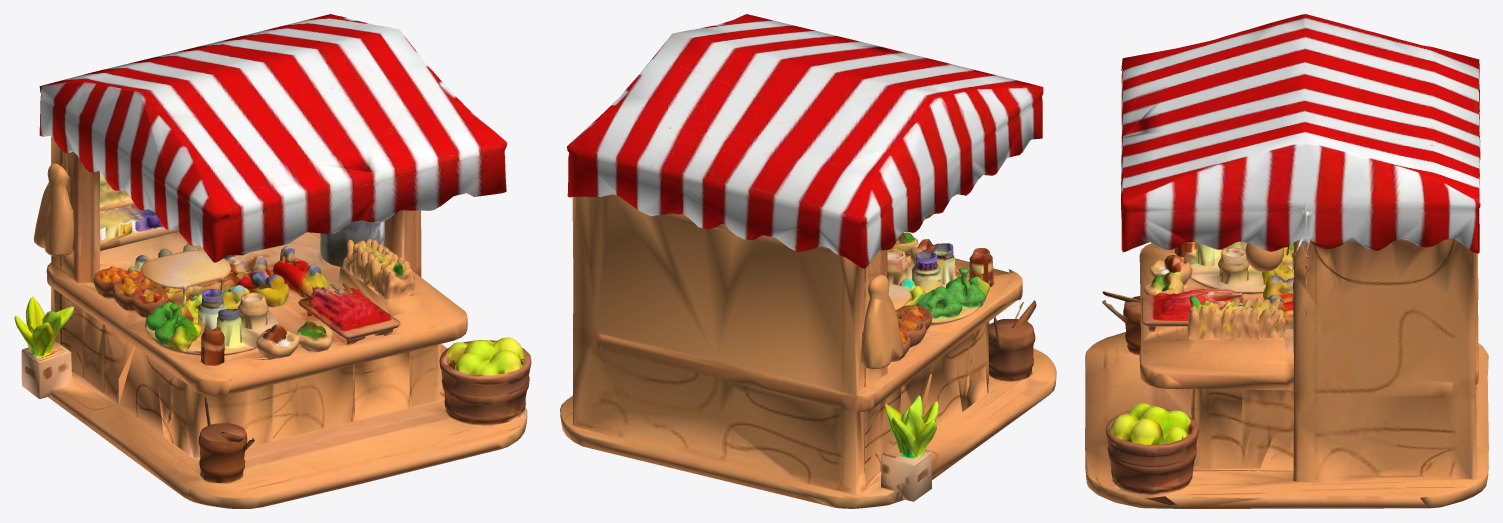
Rendered from prop-stall.glb.
The picture shows the model from 3 angles, left to right: view 1: azimuth 30°, elevation 25°; view 2: azimuth 150°, elevation 25°; view 3: azimuth 270°, elevation 25°; orthographic projection.
Bounding box in the file's own units: 1.91 × 1.67 × 1.77.
Materials: 1 (1 with a texture image).
